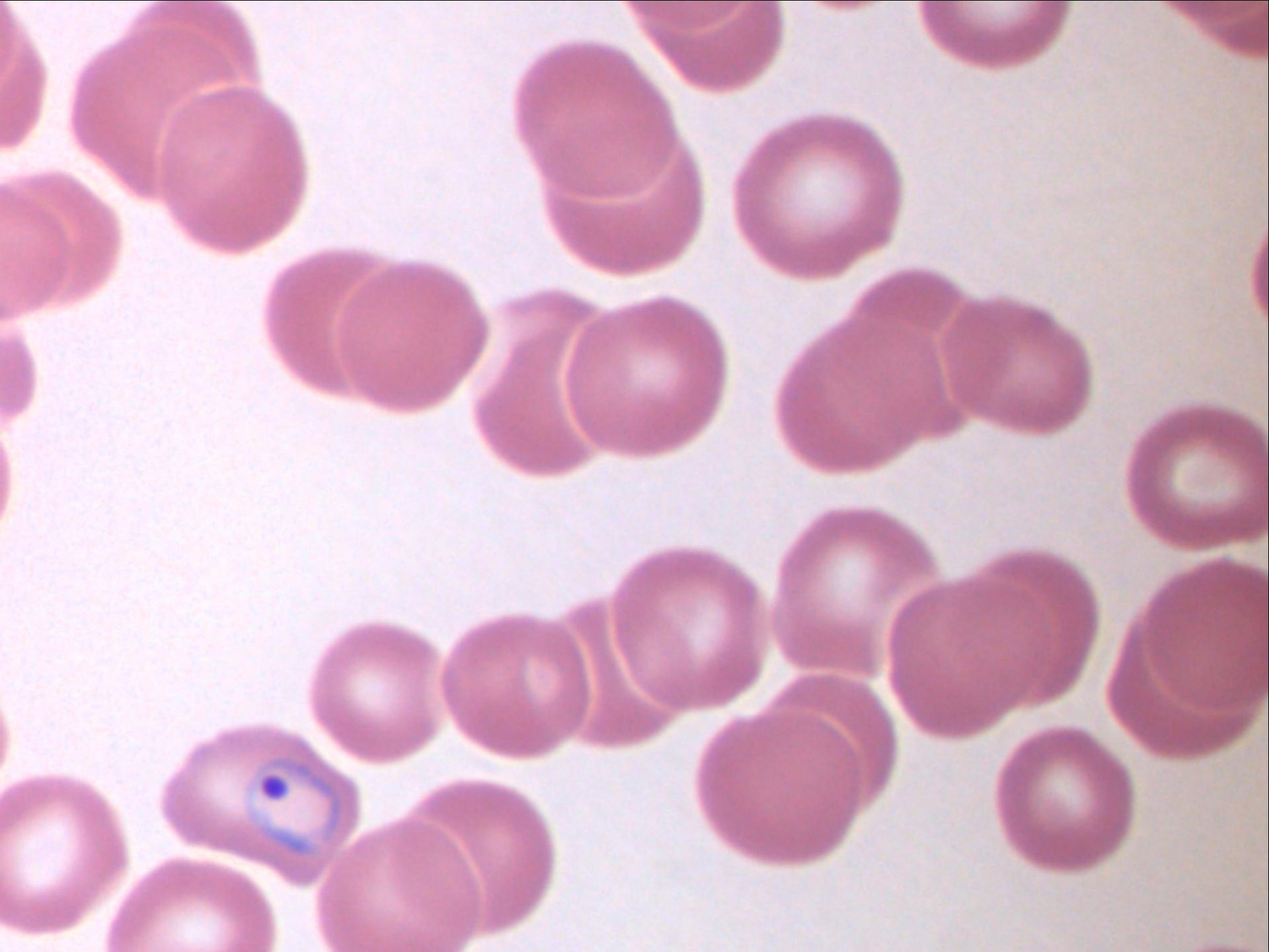Infected: (166, 725, 358, 891)
Uninfected: (512, 38, 700, 272), (884, 550, 1093, 735), (779, 272, 968, 472), (697, 690, 886, 863), (1108, 562, 1267, 752), (772, 506, 936, 678), (734, 115, 898, 277), (73, 29, 229, 197), (564, 300, 730, 453), (606, 548, 759, 713), (153, 83, 304, 249), (319, 813, 492, 951), (474, 293, 604, 476), (332, 260, 486, 411), (414, 780, 553, 938), (445, 613, 590, 758), (940, 297, 1091, 432), (1124, 406, 1268, 545), (0, 776, 123, 928), (995, 729, 1128, 869), (266, 248, 390, 396), (309, 623, 440, 762), (566, 599, 679, 747)
